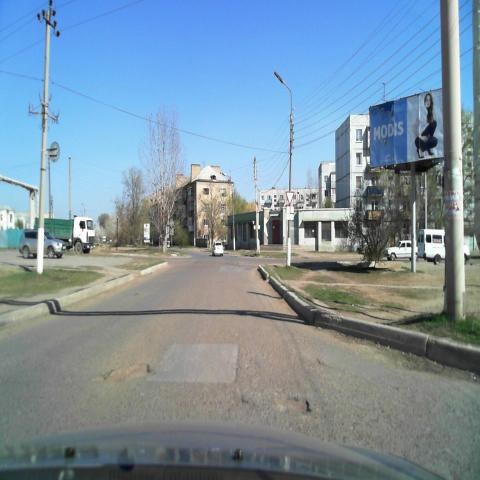2_4: (286, 191, 294, 205)
8_13: (286, 206, 294, 220)
